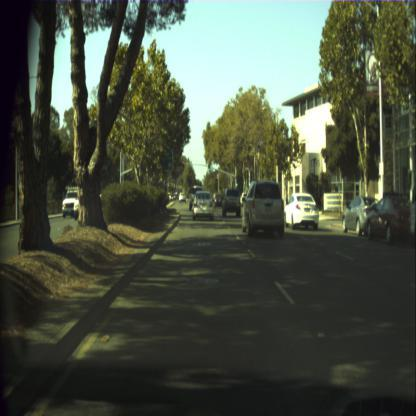Green: (236, 183, 237, 186), (243, 181, 244, 184)
GreenStraight: (208, 168, 209, 170)
Red: (182, 160, 184, 166)
